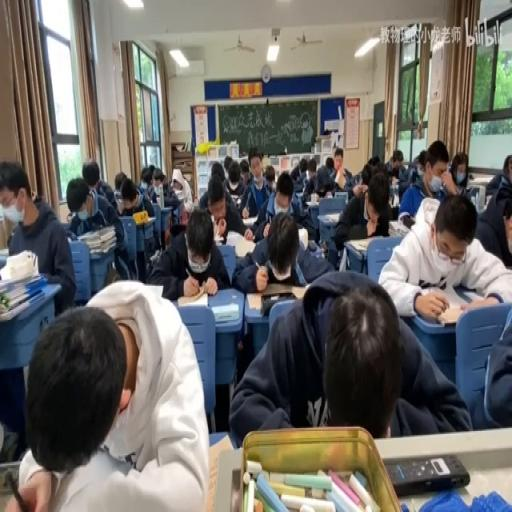calculator: (203, 431, 233, 508), (244, 284, 310, 310), (0, 289, 43, 320), (0, 270, 42, 294), (228, 234, 254, 258), (210, 300, 238, 322), (176, 288, 208, 306), (135, 283, 164, 299), (462, 289, 490, 303), (346, 238, 370, 253), (389, 218, 410, 234), (210, 219, 226, 240), (308, 240, 326, 258), (465, 185, 479, 205), (334, 189, 348, 205), (298, 226, 308, 248), (467, 175, 493, 183), (148, 248, 160, 264), (242, 215, 258, 226), (323, 212, 340, 222), (172, 189, 185, 201), (229, 195, 243, 206), (304, 198, 322, 206), (390, 176, 398, 186), (0, 247, 8, 256), (344, 168, 352, 176)
paper: (4, 282, 206, 509), (230, 270, 468, 448), (378, 194, 511, 322), (2, 162, 76, 317), (234, 203, 328, 289), (148, 202, 230, 299), (464, 284, 510, 430), (68, 174, 130, 282), (333, 168, 391, 254), (395, 141, 451, 223), (237, 144, 270, 224), (302, 162, 336, 202), (484, 154, 511, 198), (151, 168, 180, 208), (123, 186, 154, 222), (220, 157, 246, 199), (448, 149, 468, 192), (330, 146, 348, 192), (274, 176, 293, 205), (262, 162, 276, 192), (209, 161, 225, 186), (140, 164, 154, 189), (295, 156, 307, 182), (358, 164, 372, 186), (415, 150, 427, 174), (114, 171, 126, 192), (368, 155, 380, 168), (325, 155, 334, 171), (392, 150, 402, 164), (352, 170, 362, 184), (385, 158, 394, 173), (162, 176, 169, 190), (308, 169, 314, 179)
person: (384, 452, 470, 494), (0, 458, 21, 493)
